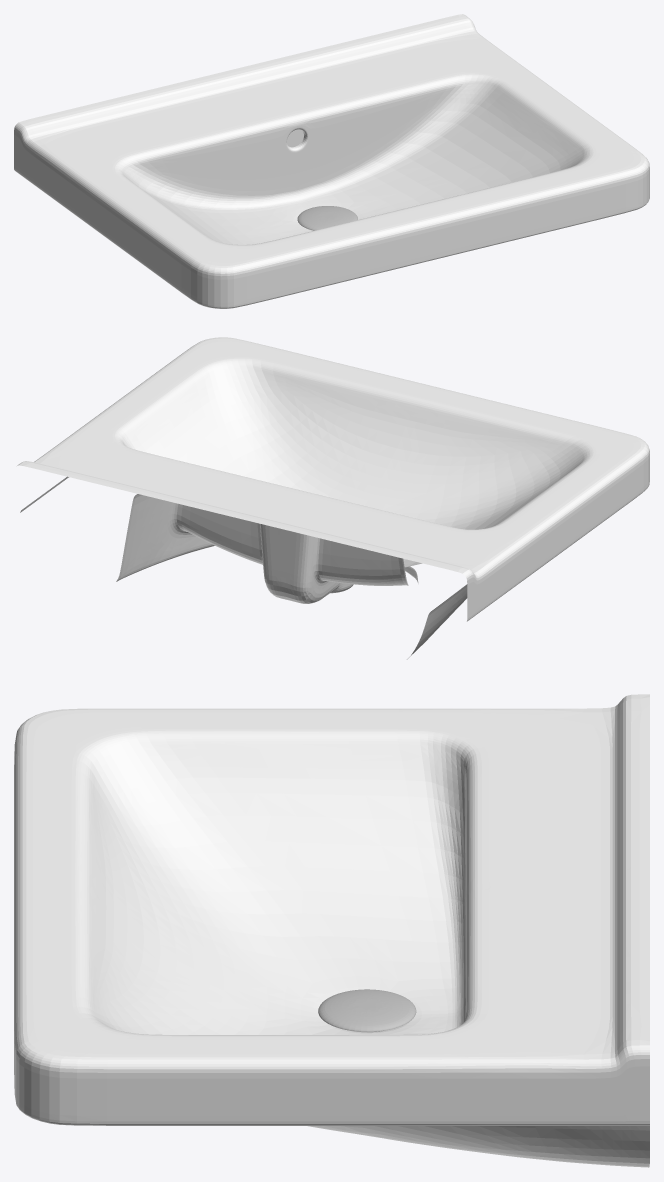
File: AEC_29316.glb
The picture shows the model from 3 angles, top to bottom: view 1: azimuth 30°, elevation 25°; view 2: azimuth 150°, elevation 25°; view 3: azimuth 270°, elevation 25°; orthographic projection. The views are drawn at different scales.
Parts seen in each view (by area): view 1: 0; view 2: 0; view 3: 0.
Part boxes in pixels (bbox=[...]): 0: bbox=[14, 14, 649, 308]; 0: bbox=[17, 337, 649, 659]; 0: bbox=[14, 694, 649, 1167].
Bounding box in the file's own units: 0.648 × 0.1755 × 0.4861.
Materials: 1 (1 with a texture image).
